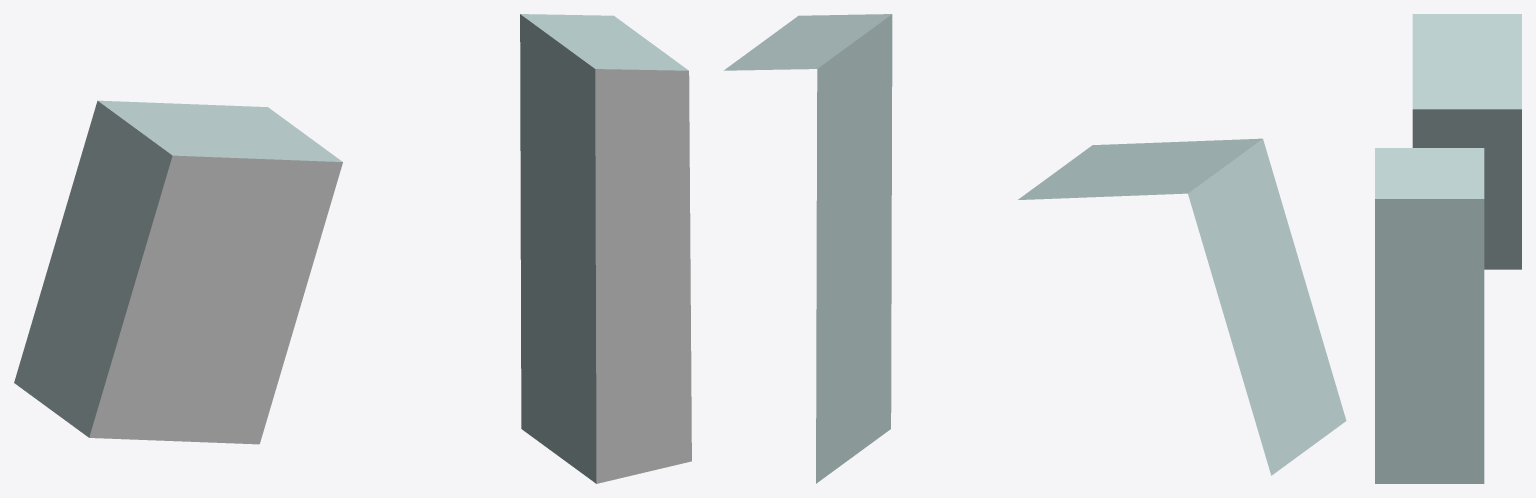
3 views of the same model, side by side, from view 1: azimuth 30°, elevation 25°; view 2: azimuth 150°, elevation 25°; view 3: azimuth 270°, elevation 25° (orthographic). The views are drawn at different scales.
Parts seen in each view (by area): view 1: 0_2_1_2_3_3_1_0_0; view 2: 0_2_1_2_3_3_1_0_0; view 3: 0_2_1_2_3_3_1_0_0.
Part boxes in pixels (x1=…): 0_2_1_2_3_3_1_0_0: x1=14, y1=14, x2=691, y2=483; 0_2_1_2_3_3_1_0_0: x1=724, y1=14, x2=1346, y2=483; 0_2_1_2_3_3_1_0_0: x1=1375, y1=14, x2=1521, y2=483.
Bounding box in the file's own units: 13.29 × 9.16 × 4.04.
